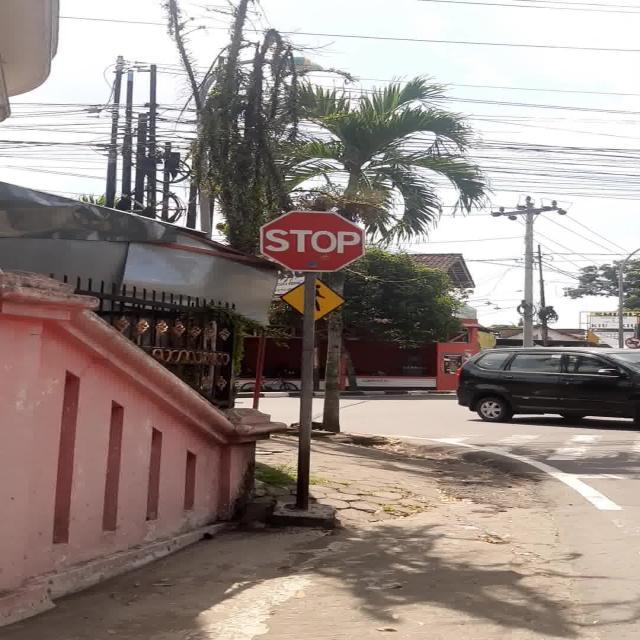Berhenti: (260, 211, 365, 271)
